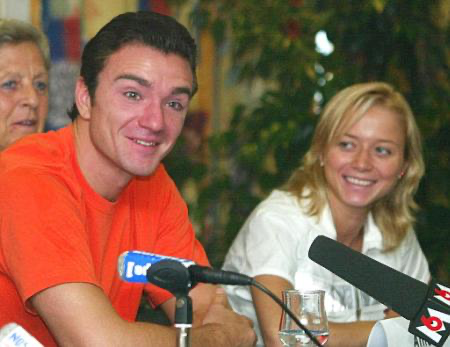Face: (98, 55, 201, 180), (326, 108, 403, 204)
